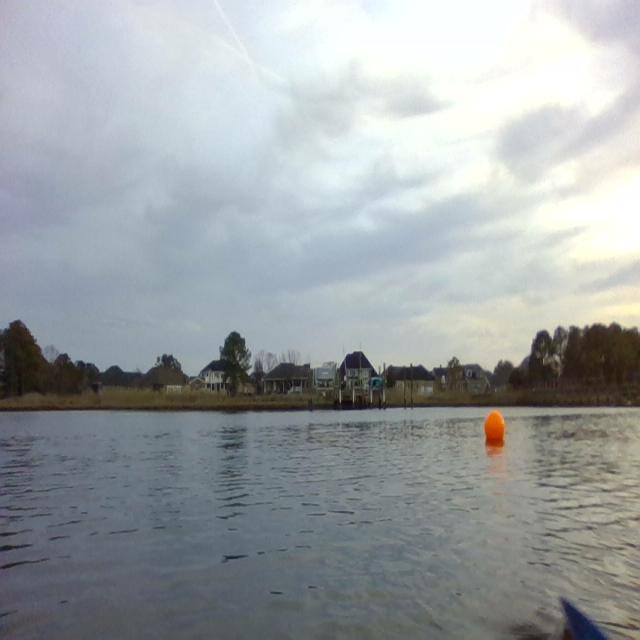Buoy: (480, 403, 507, 448)
